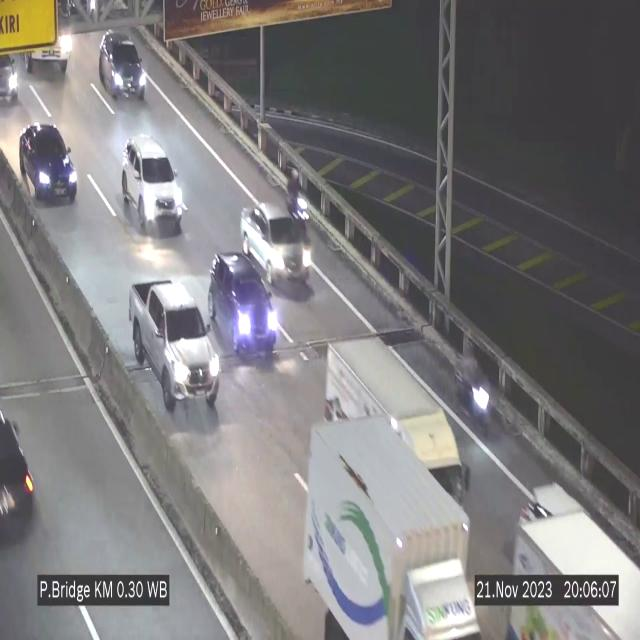Car: (128, 278, 220, 427), (204, 252, 280, 362), (122, 133, 183, 235), (240, 204, 309, 287), (0, 393, 39, 535), (17, 119, 79, 205), (99, 32, 147, 100), (0, 52, 23, 106)
Motorcycle: (455, 326, 495, 442), (284, 162, 310, 235)
Truck: (294, 415, 483, 640), (316, 330, 474, 530), (505, 520, 640, 640), (20, 0, 78, 80)
